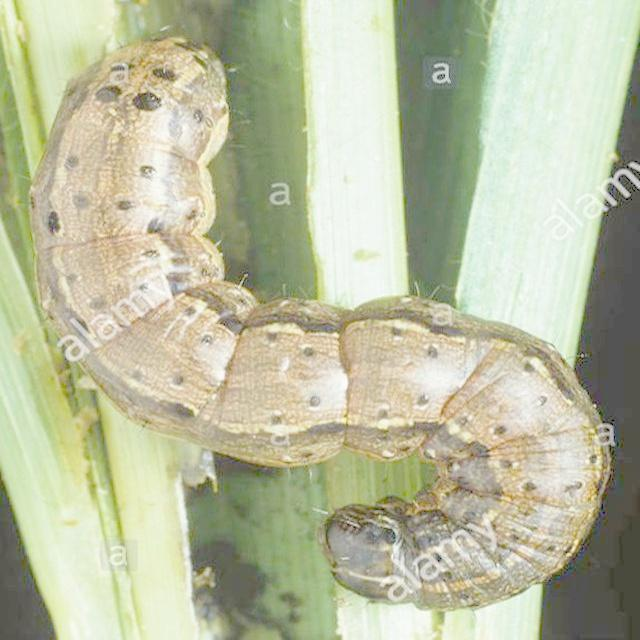worm: (27, 31, 618, 613)
